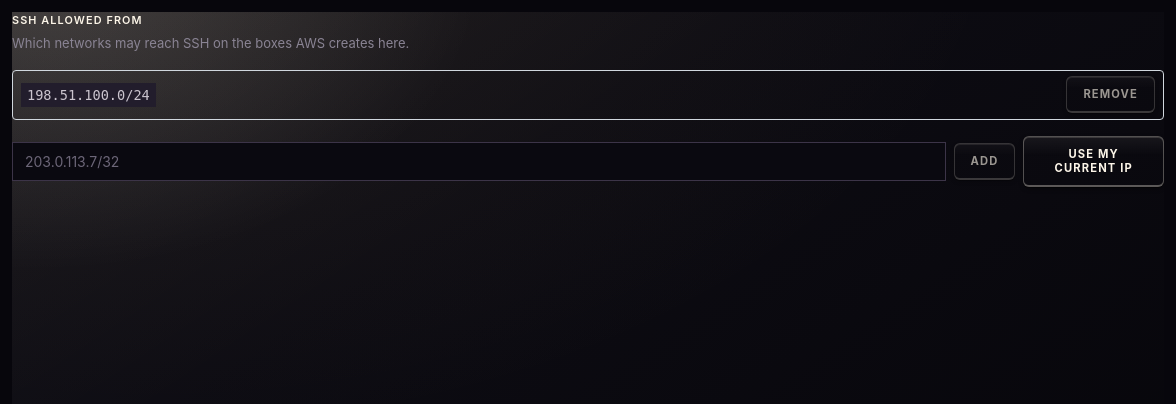
Test: "Use my current IP" on the SSH allow-list › prints core’s own sentence when neither lookup worked, rather than filling nothing in silence
Click the button with test id "use-my-ip-aws": (1094, 162) [1023,136,1164,187]
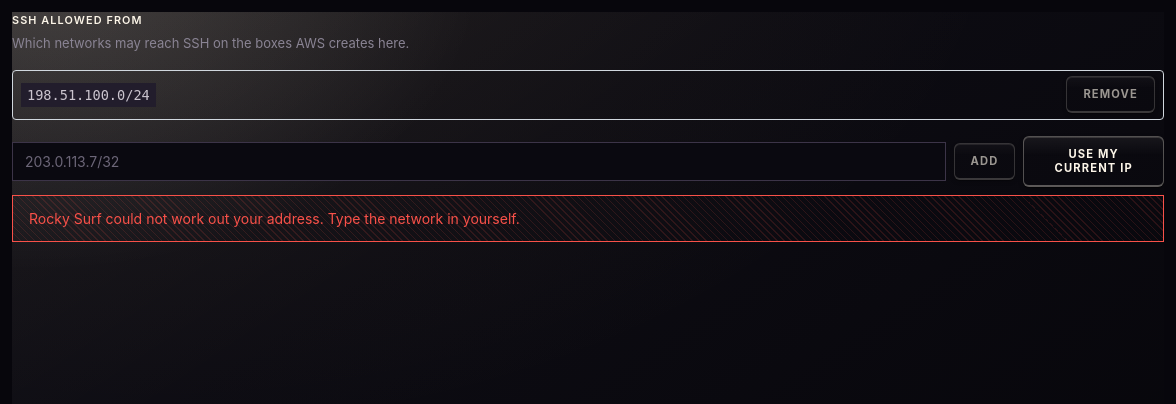
expect the field named "Add a network for aws" is empty: met, box [12,142,946,181]
expect the text "Rocky Surf could not work out your address. Type the network in yourself." is shown: met, box [12,195,1164,242]
